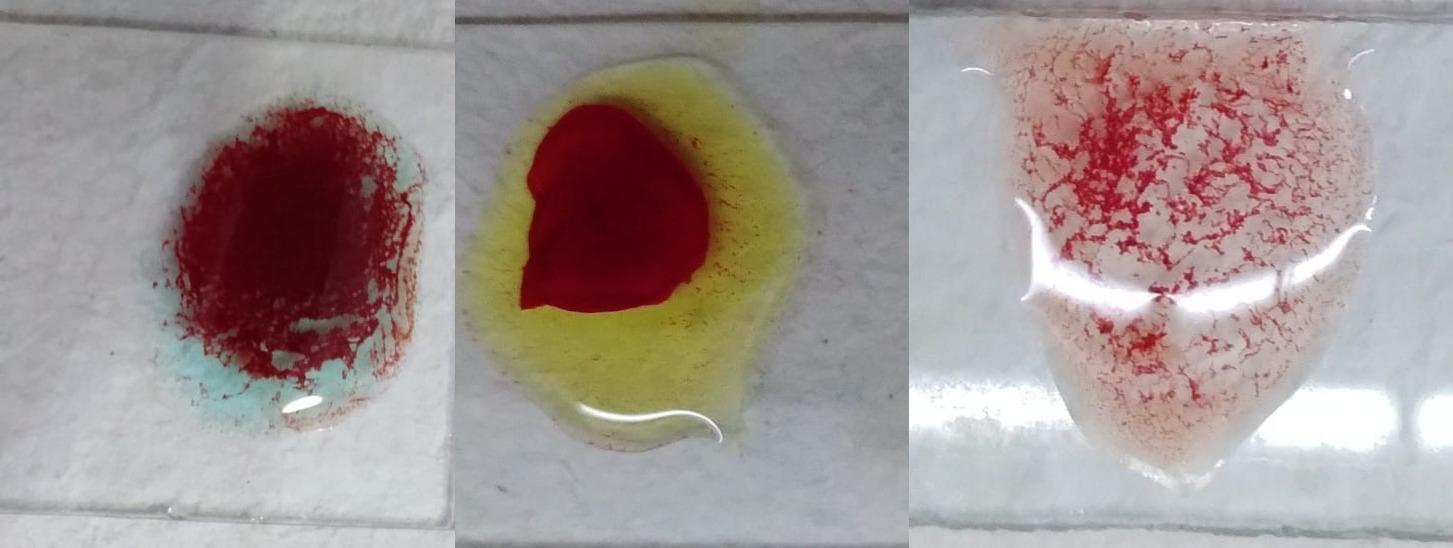A: (123, 86, 431, 434)
B: (470, 59, 810, 450)
D: (993, 19, 1356, 504)
